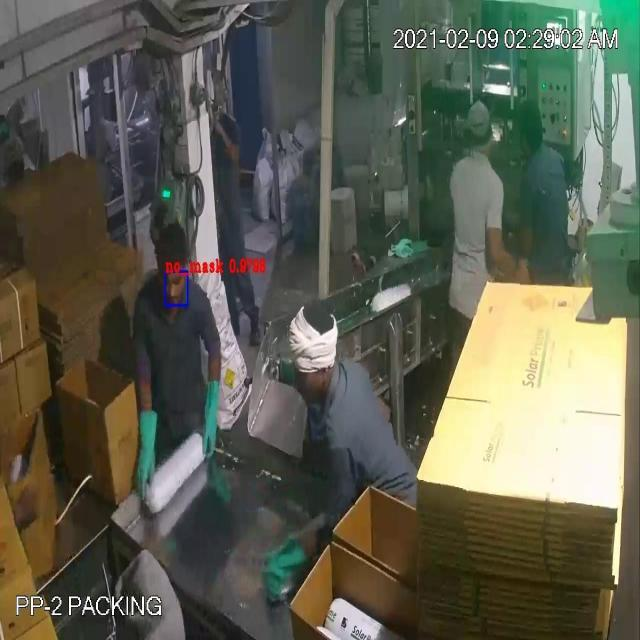Gloves: (24, 56, 506, 567)
